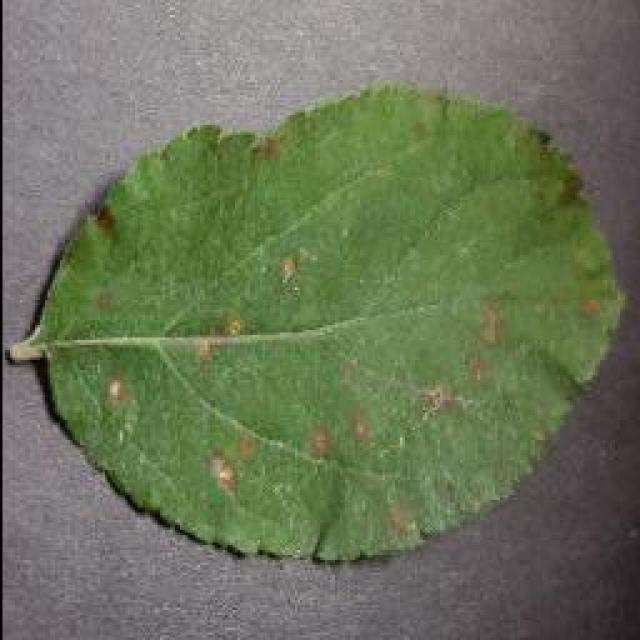apple healthy: (8, 78, 628, 562)
